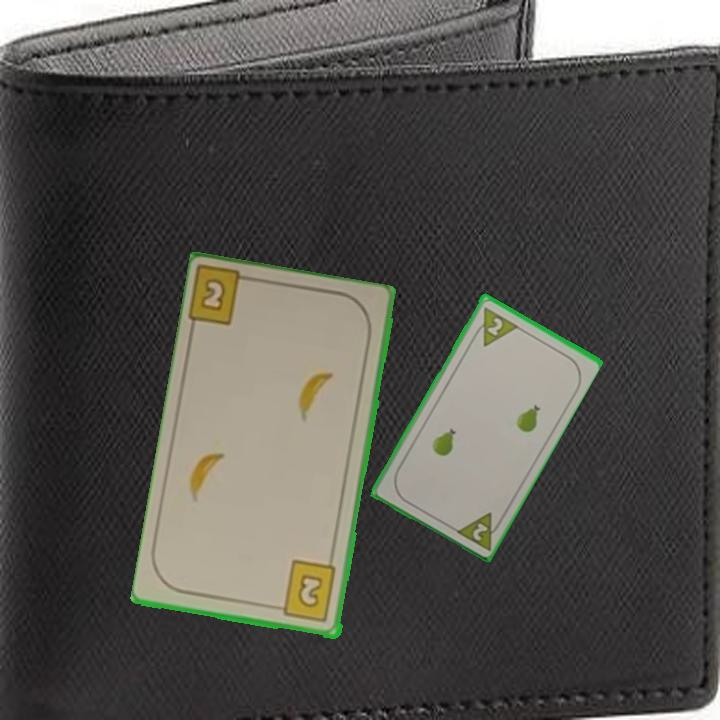2b: (187, 265, 260, 329), (271, 558, 340, 625)
2p: (451, 508, 506, 553), (468, 303, 520, 349)
